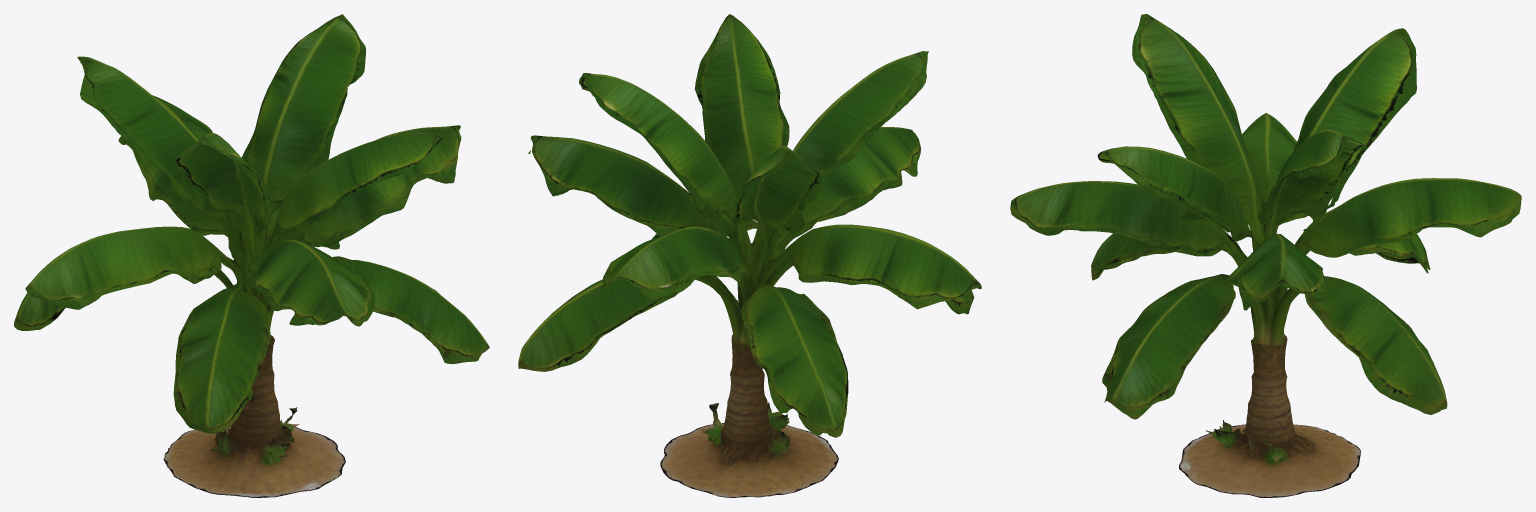
Rendered from plant.glb.
The picture shows the model from 3 angles, left to right: view 1: azimuth 30°, elevation 25°; view 2: azimuth 150°, elevation 25°; view 3: azimuth 270°, elevation 25°; orthographic projection.
Visible parts, largest first — view 1: world_0; view 2: world_0; view 3: world_0.
Part boxes in pixels (x1,y1,x2,y2): world_0: [14, 14, 489, 497]; world_0: [518, 14, 981, 497]; world_0: [1010, 14, 1521, 497].
Size of the model in its own units: 0.9997 by 0.8443 by 1.
1 material, 1 textured.
